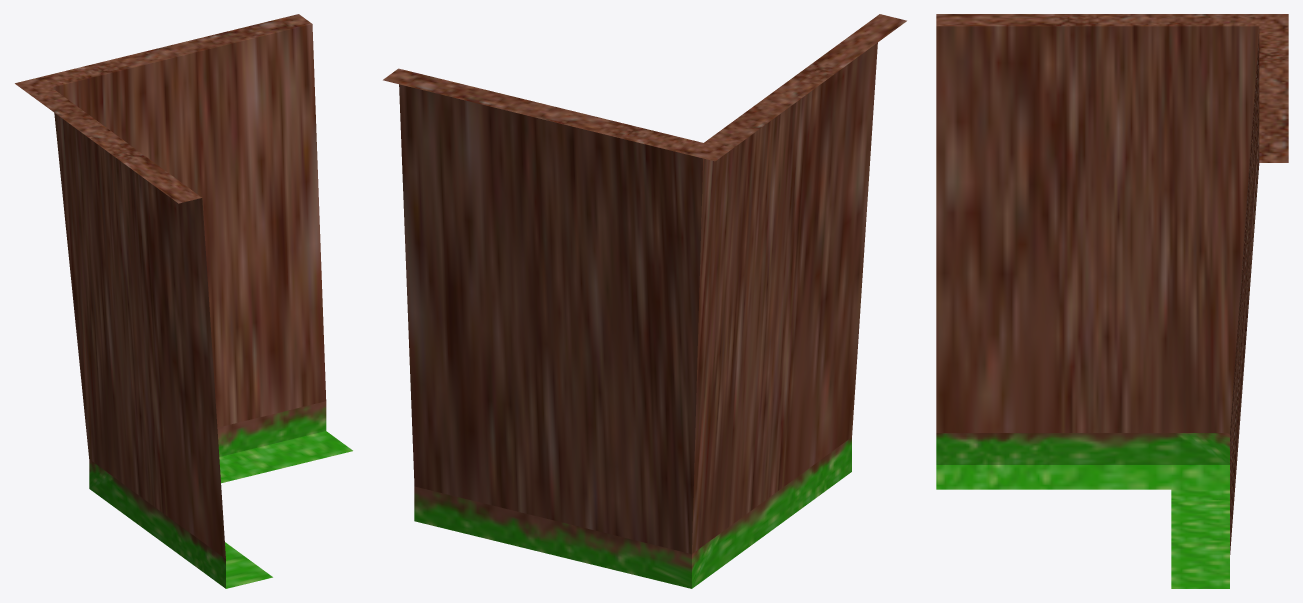
The model's file is mountain_07_GEO.fbx.
3 renders of one model, left to right at view 1: azimuth 30°, elevation 25°; view 2: azimuth 150°, elevation 25°; view 3: azimuth 270°, elevation 25°, orthographic. The views are drawn at different scales.
Parts seen in each view (by area): view 1: mountain_07_GEO; view 2: mountain_07_GEO; view 3: mountain_07_GEO.
Boxes of the visible parts, x1,y1,x2,y2 form: mountain_07_GEO: [15, 14, 352, 588]; mountain_07_GEO: [383, 14, 906, 588]; mountain_07_GEO: [936, 14, 1288, 588].
Bounding box in the file's own units: 15 × 20 × 15.
